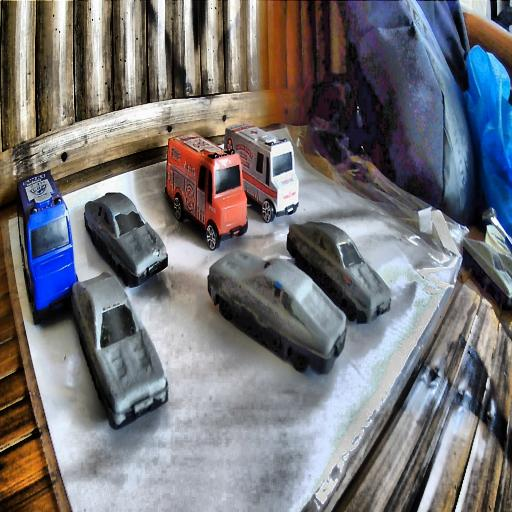ambulance: (253, 135, 301, 217)
fire_truck: (162, 134, 248, 248)
normal_car: (208, 248, 348, 384), (71, 278, 172, 428), (287, 214, 399, 328), (82, 189, 178, 290)
police car: (11, 168, 80, 321)
